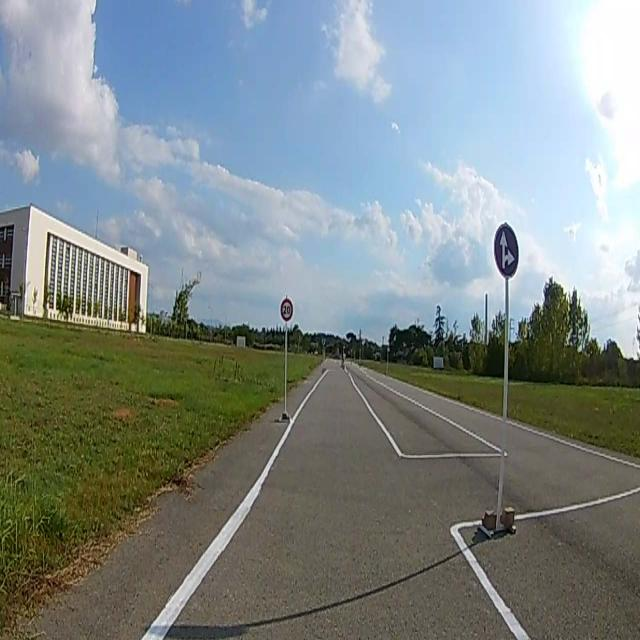20: (281, 300, 293, 319)
ilerisag: (493, 224, 519, 279)
